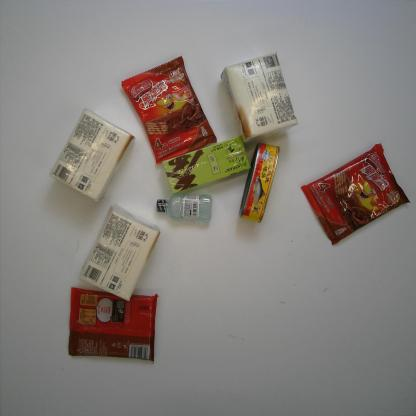Canned Food: (238, 141, 281, 224)
Dessert: (300, 142, 411, 246), (121, 54, 217, 165), (68, 286, 159, 364)
Instant Drink: (162, 134, 252, 194)
Personal Hygiene: (155, 192, 213, 223)
Tissue: (77, 203, 162, 302), (49, 108, 136, 203), (219, 50, 300, 145)
